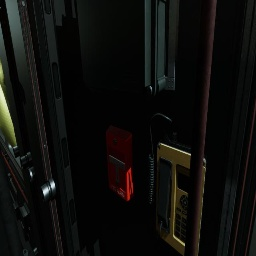EmergencyPhone ,: (148, 113, 207, 256)
FireAlarm ,: (106, 125, 133, 202)
